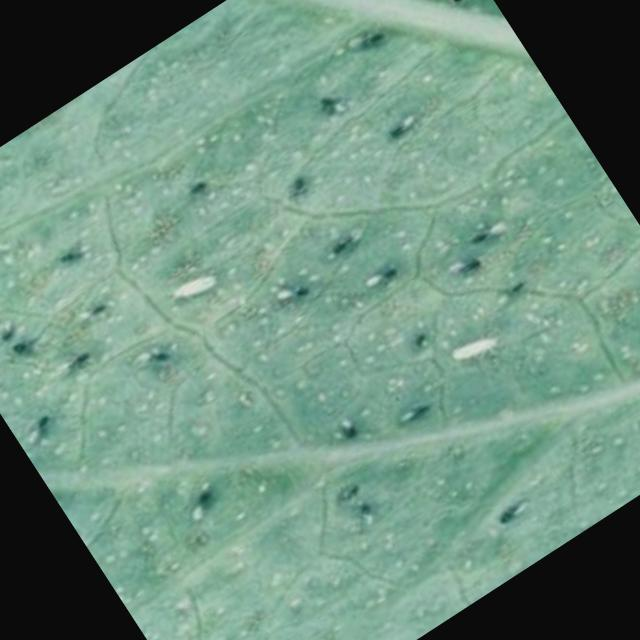Silverleaf whitefly: (110, 204, 278, 371), (392, 268, 546, 418)
